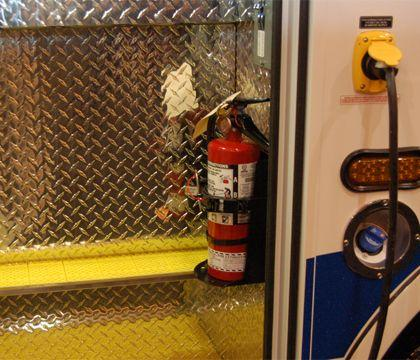Fire Extinguisher: (187, 87, 281, 291)
